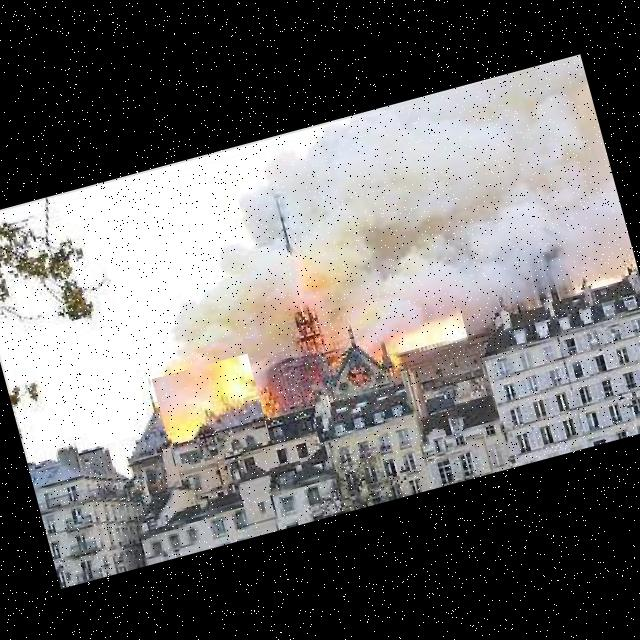fire: (152, 353, 270, 466)
